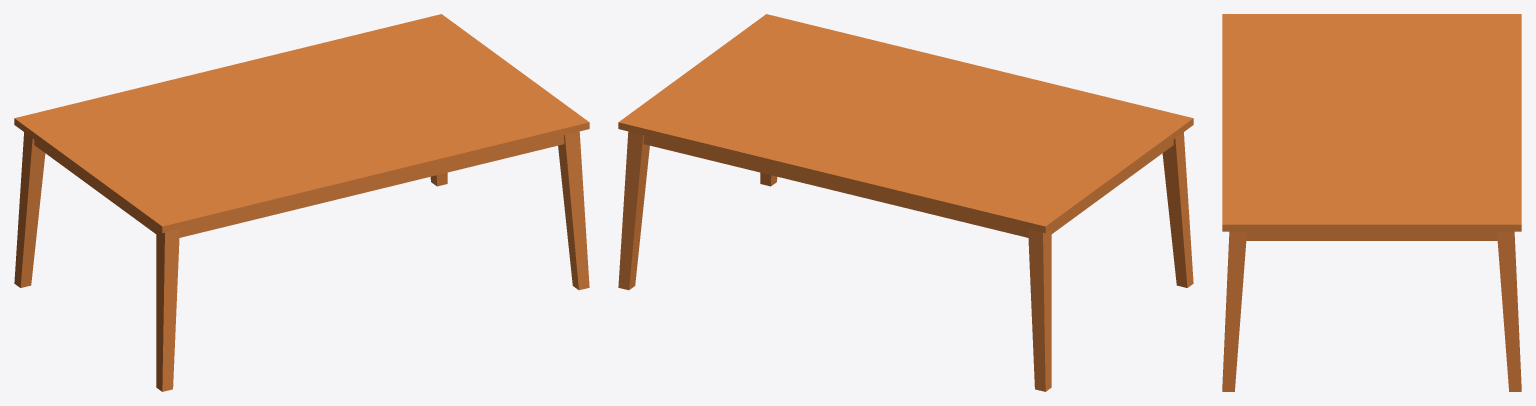
The model's file is table_01.glb.
The picture shows the model from 3 angles, left to right: view 1: azimuth 30°, elevation 25°; view 2: azimuth 150°, elevation 25°; view 3: azimuth 270°, elevation 25°; orthographic projection.
Parts seen in each view (by area): view 1: bordsskiva, ben 04, ben 03, ben 01; view 2: bordsskiva, ben 01, ben 02, ben 04; view 3: bordsskiva, ben 02, ben 03.
Part boxes in pixels (<box>): bordsskiva: <box>14,14,589,237</box>; ben 04: <box>156,229,179,391</box>; ben 03: <box>558,131,589,290</box>; ben 01: <box>14,132,45,287</box>; bordsskiva: <box>618,14,1193,237</box>; ben 01: <box>1028,229,1051,391</box>; ben 02: <box>618,131,649,290</box>; ben 04: <box>1162,132,1193,287</box>; bordsskiva: <box>1222,14,1521,240</box>; ben 02: <box>1497,231,1521,391</box>; ben 03: <box>1222,231,1246,391</box>.
Bounding box in the file's own units: 2 × 0.74 × 1.2.
